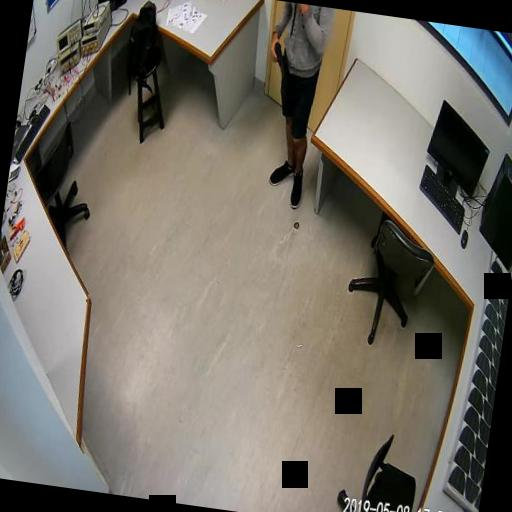Handgun: (268, 39, 290, 76)
